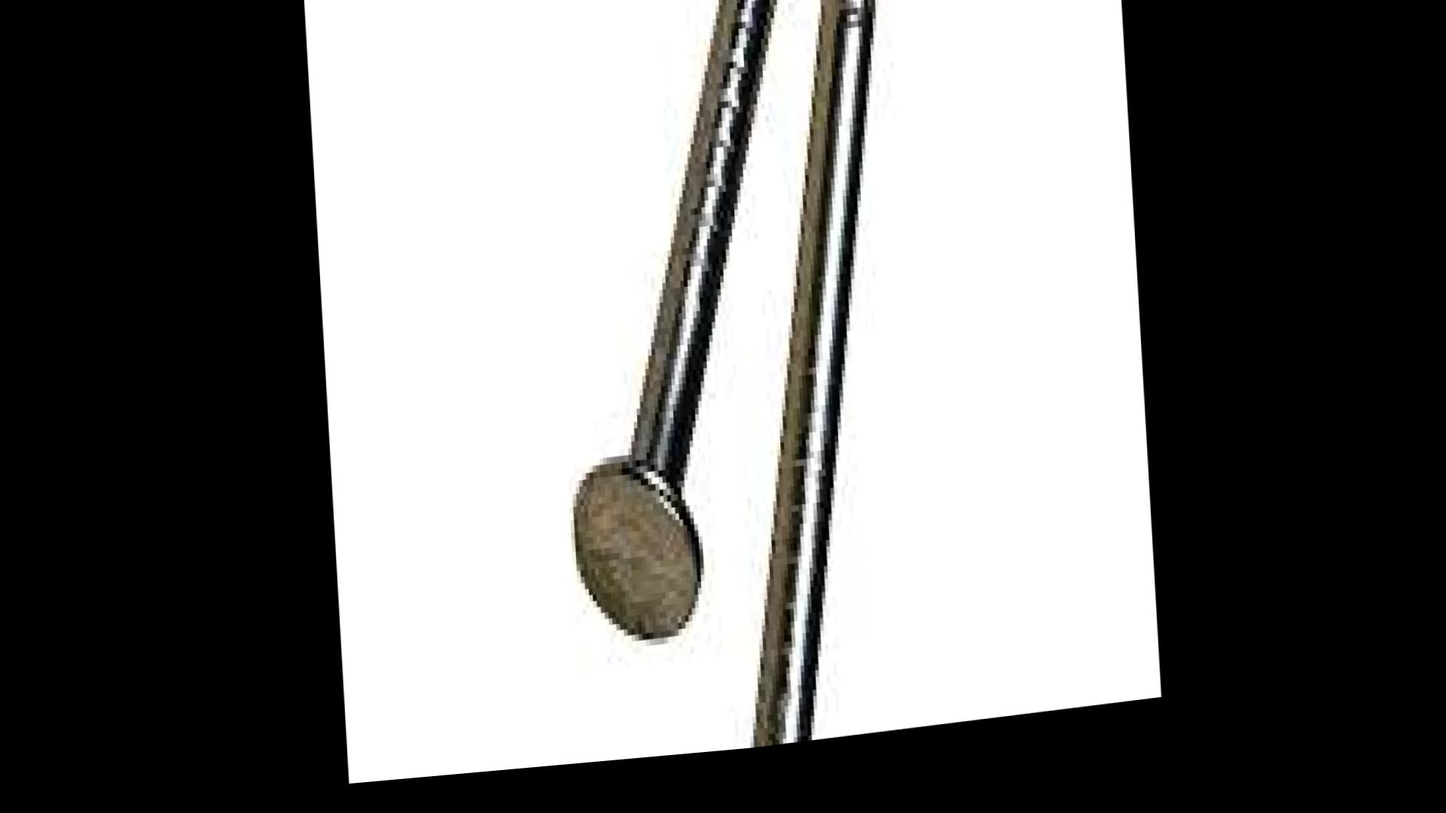nail: (491, 0, 973, 779)
